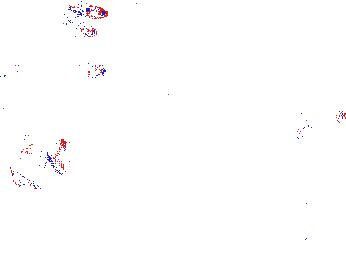X-ray fish: (66, 58, 107, 80)
glassfish: (222, 100, 328, 168)
red belly glassfish: (58, 17, 99, 39), (65, 3, 109, 20)
redtail glassfish: (1, 146, 59, 183), (1, 57, 24, 81)
